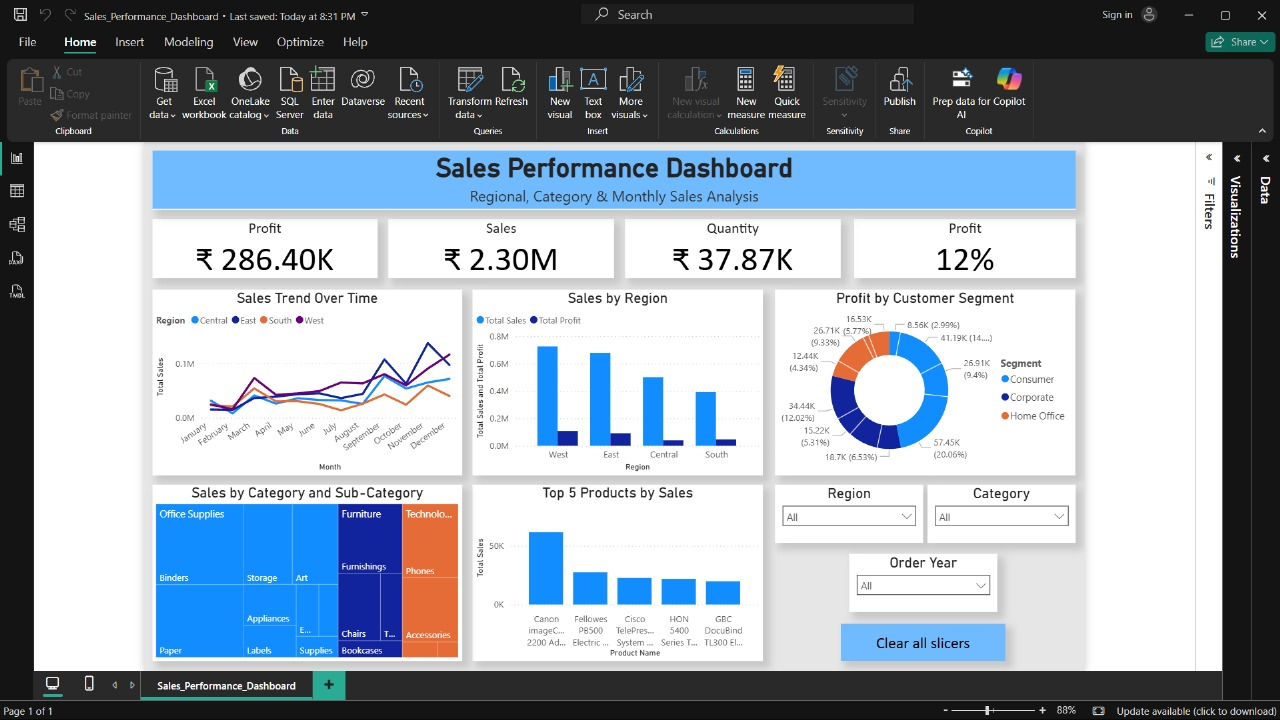

Layout of this report page (visuals, bound fields, positions):
{"tool":"powerbi","page":{"name":"Sales_Performance_Dashboard","canvas":[1280,720],"ordinal":0},"visuals":[{"type":"card","title":"Profit","fields":{"Values":["Superstore.Total Profit"]},"box":[11,104.3,306,81],"z":0},{"type":"card","title":"Sales","fields":{"Values":["Superstore.Total Sales"]},"box":[332.1,104.3,307.4,81],"z":1000},{"type":"card","title":"Profit","fields":{"Values":["Superstore.Total Profit Margin"]},"box":[966,104.3,301.9,81],"z":2000},{"type":"card","title":"Quantity","fields":{"Values":["Superstore.Total Quantity"]},"box":[654.5,104.3,293.7,81],"z":3000},{"type":"textbox","title":"Sales Performance Dashboard","box":[11,11,1257,81],"z":4000},{"type":"lineChart","title":"Sales Trend Over Time","fields":{"Category":["Superstore.Order Date.Variation.Date Hierarchy.Month"],"Y":["Superstore.Total Sales"],"Series":["Superstore.Region"]},"box":[11,200.3,421.3,252.5],"z":5000},{"type":"clusteredColumnChart","title":"Sales by Region","fields":{"Category":["Superstore.Region"],"Y":["Superstore.Total Sales","Superstore.Total Profit"]},"box":[447.3,200.3,395.2,252.5],"z":6000},{"type":"clusteredColumnChart","title":" Top 5 Products by Sales","fields":{"Category":["Superstore.Product Name"],"Y":["Superstore.Total Sales"]},"box":[447.3,466.6,395.2,240.1],"z":7000},{"type":"treemap","title":"Sales by Category and Sub-Category","fields":{"Group":["Superstore.Category"],"Details":["Superstore.Sub-Category"],"Values":["CountNonNull(Superstore.Sales)"]},"box":[11,466.6,421.3,240.1],"z":8000},{"type":"donutChart","title":"Profit by Customer Segment","fields":{"Category":["Superstore.Segment"],"Series":["Superstore.Region"],"Y":["Superstore.Total Profit"]},"box":[859,200.3,408.9,252.5],"z":9000},{"type":"slicer","title":"Region","fields":{"Values":["Superstore.Region"]},"box":[859,466.6,201.7,79.6],"z":10000},{"type":"actionButton","box":[948.2,655.9,223.7,50.8],"z":11000},{"type":"slicer","title":"Category","fields":{"Values":["Superstore.Category"]},"box":[1066.2,466.6,201.7,79.6],"z":12000},{"type":"slicer","title":"Order Year","fields":{"Values":["Superstore.Order Date.Variation.Date Hierarchy.Year"]},"box":[959.2,559.9,201.7,79.6],"z":13000}]}

Visuals, with their boxes on the page's 1280x720 design canvas (x1, y1, x2, y2). These are canvas units, not pixel positions in the 1280x720 screenshot, which may show the page scaled, cropped or inside an application window:
"Profit" card: <box>11,104,317,185</box>
"Sales" card: <box>332,104,640,185</box>
"Profit" card: <box>966,104,1268,185</box>
"Quantity" card: <box>654,104,948,185</box>
"Sales Performance Dashboard" textbox: <box>11,11,1268,92</box>
"Sales Trend Over Time" lineChart: <box>11,200,432,453</box>
"Sales by Region" clusteredColumnChart: <box>447,200,842,453</box>
" Top 5 Products by Sales" clusteredColumnChart: <box>447,467,842,707</box>
"Sales by Category and Sub-Category" treemap: <box>11,467,432,707</box>
"Profit by Customer Segment" donutChart: <box>859,200,1268,453</box>
"Region" slicer: <box>859,467,1061,546</box>
actionButton: <box>948,656,1172,707</box>
"Category" slicer: <box>1066,467,1268,546</box>
"Order Year" slicer: <box>959,560,1161,640</box>
